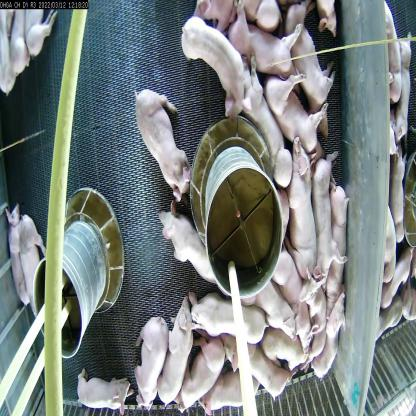Pig: (123, 78, 194, 213), (180, 3, 251, 117), (151, 194, 218, 286), (278, 136, 323, 271), (190, 281, 265, 346), (253, 70, 290, 192), (164, 286, 200, 396), (332, 169, 359, 304), (274, 61, 316, 145), (135, 310, 170, 410), (267, 308, 312, 385), (15, 221, 56, 303), (309, 292, 344, 387), (272, 233, 302, 310), (187, 338, 219, 402), (209, 365, 244, 416), (241, 346, 271, 402)
